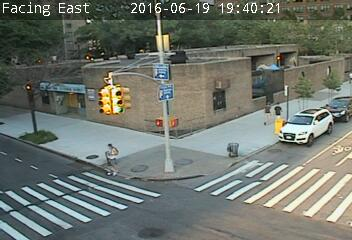neg: (317, 63, 338, 91), (243, 75, 262, 100), (288, 54, 306, 78), (339, 40, 351, 57)
pos: (95, 139, 127, 182), (258, 102, 276, 127), (269, 98, 287, 122)
